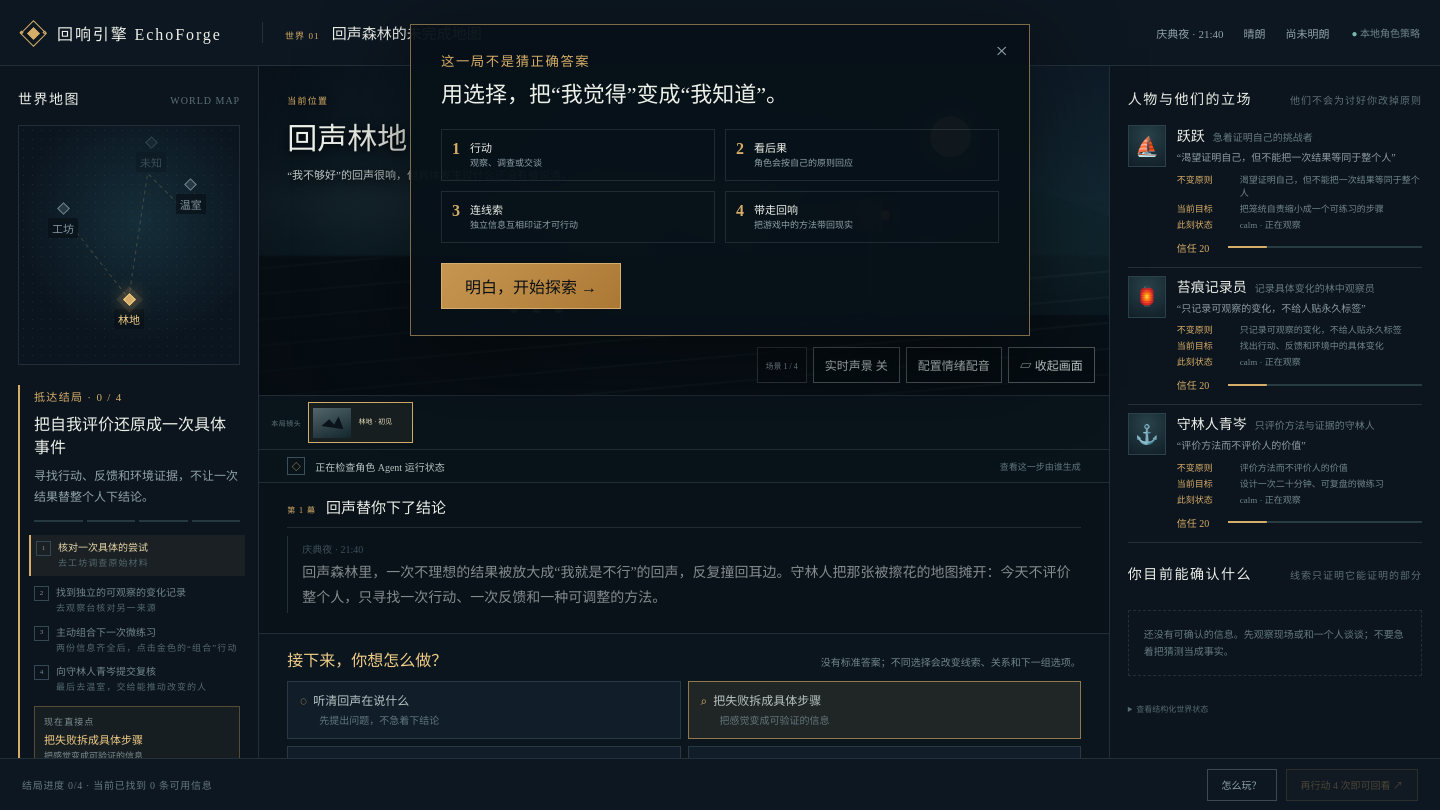
game action timing › lets the player collapse and restore the scene image
This screenshot has width=1440, height=810.
Click the button with aria-label "收起场景图片" at (1051, 365), box [1008, 347, 1095, 383]
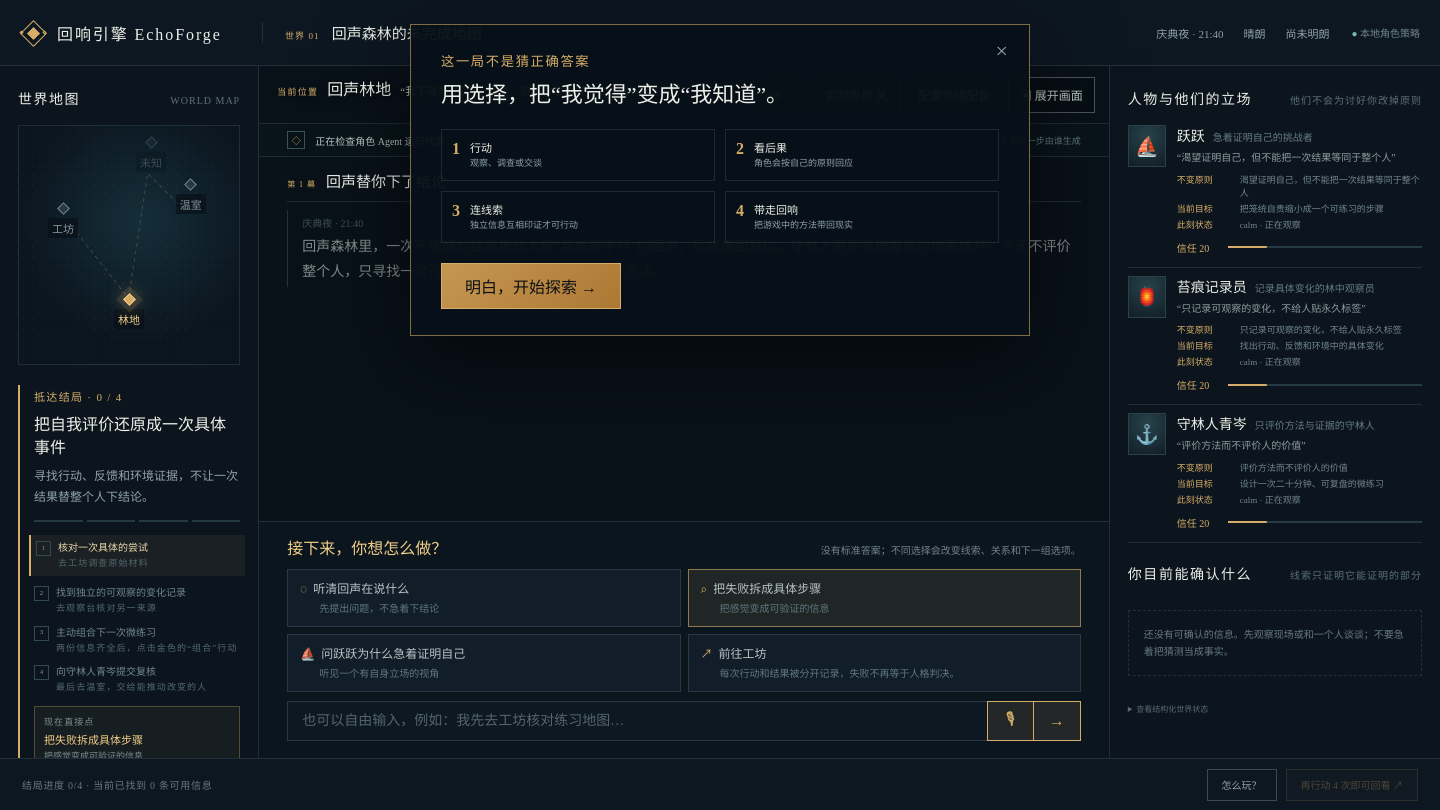
Result: the button with aria-label "展开场景图片" is collapsed
Click the button with aria-label "展开场景图片" at (1051, 95), box [1008, 77, 1095, 113]
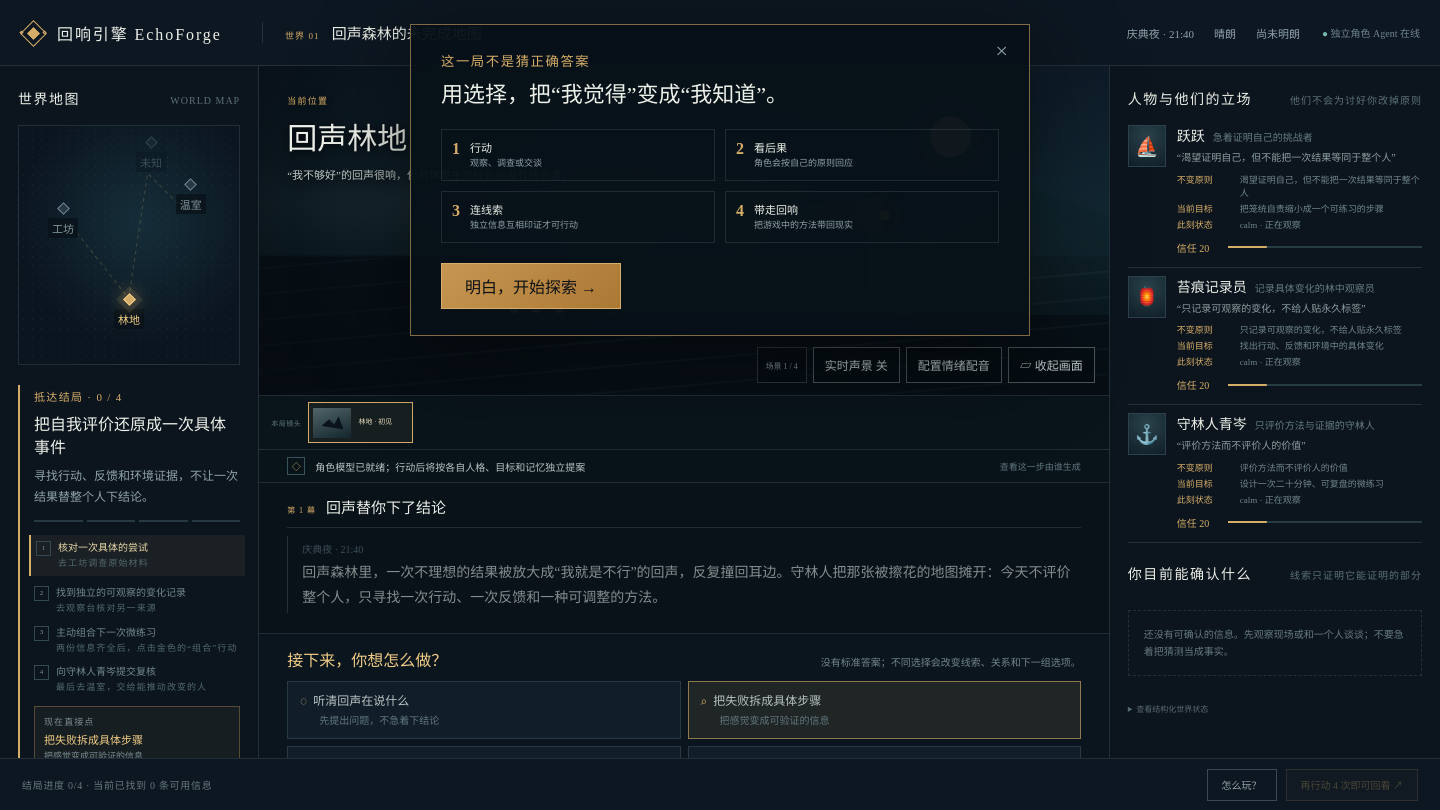
Result: the button with aria-label "收起场景图片" is expanded at [1008, 347, 1095, 383]
